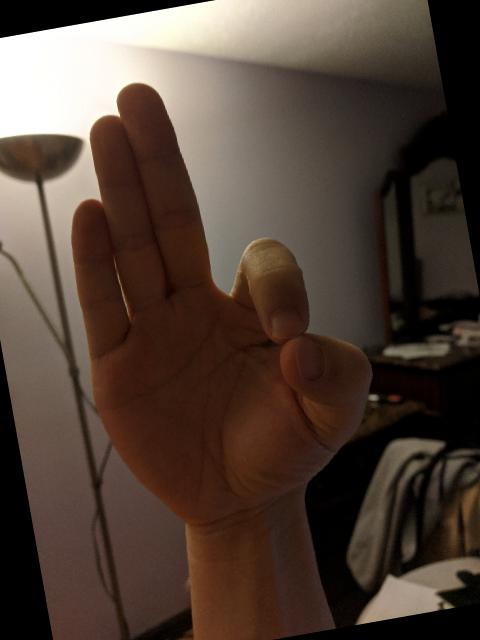F: (38, 47, 396, 542)
